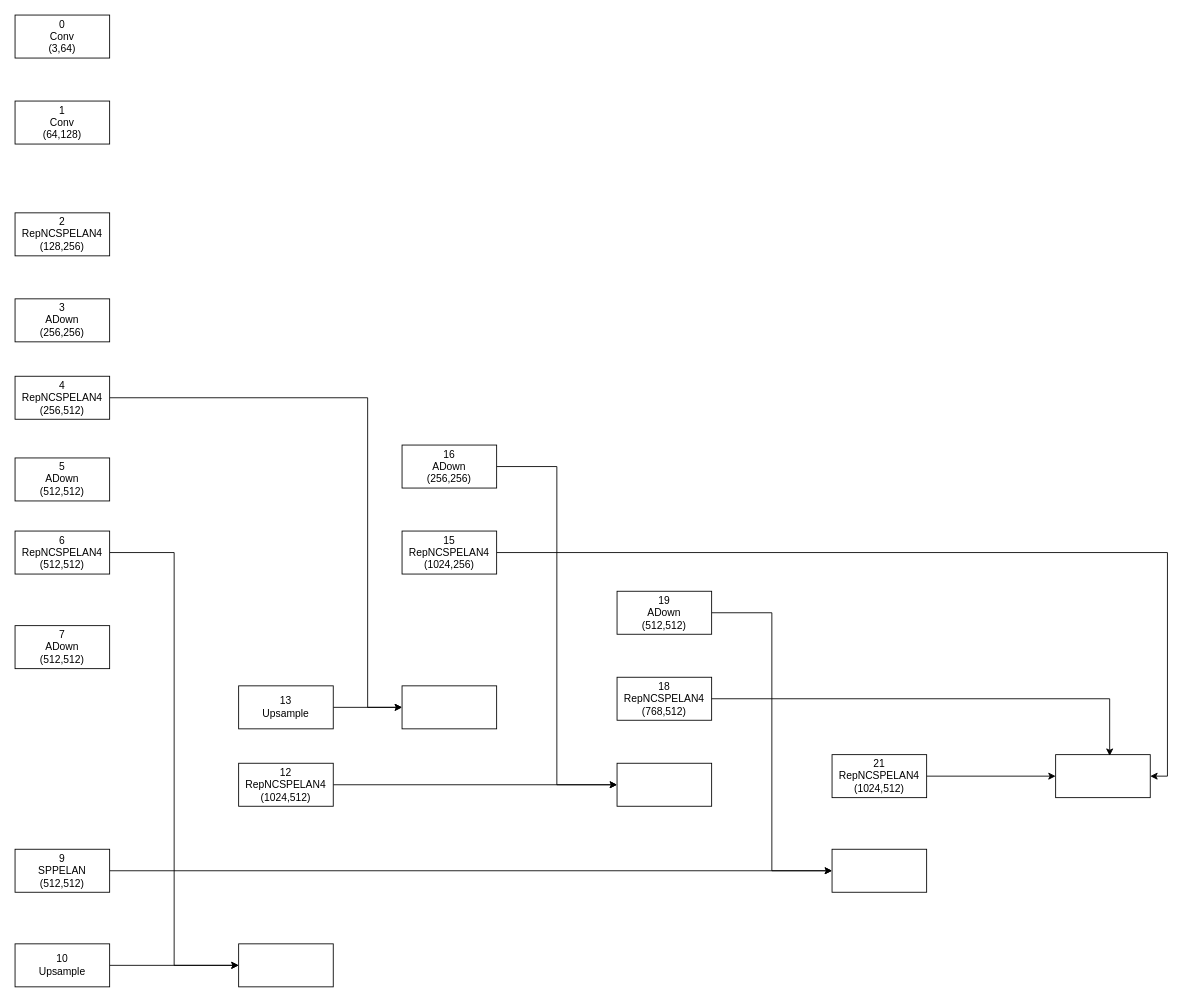
The diagram is 1189 pixels wide and 1002 high, and some of its shapes have lost their labels. Here are the shapes that lost their labels. From the top down, the centre of each, then its label:
At point 449,707: "14 Concat".
At point 664,784: "17 Concat".
At point 1102,776: "22 Panoptic".
At point 879,870: "20 Concat".
At point 285,965: "11 Concat".
